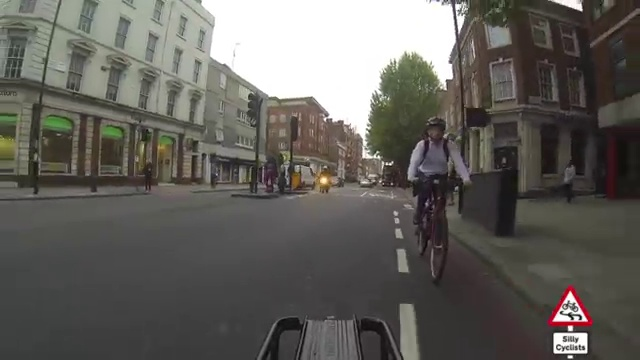cyclist_front: (409, 113, 469, 291), (317, 164, 333, 194)
